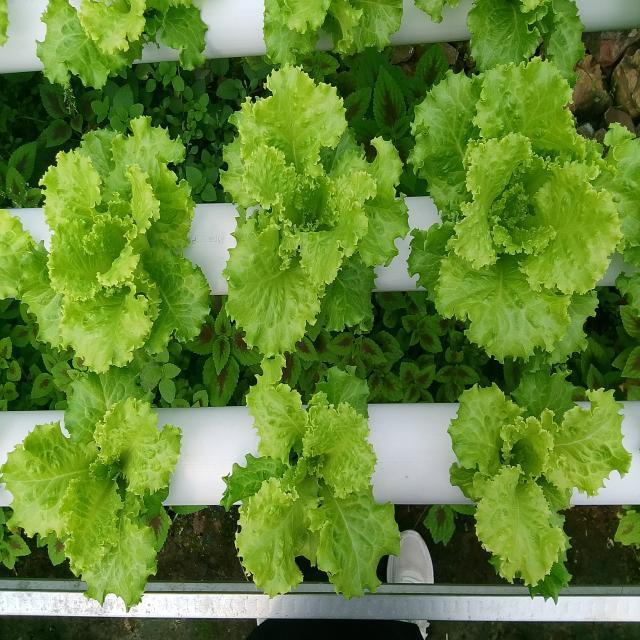Baby: (221, 65, 409, 357), (0, 116, 210, 374), (223, 357, 400, 599), (448, 369, 632, 599), (0, 374, 181, 606), (249, 620, 422, 640)
Mature: (409, 57, 640, 362)
